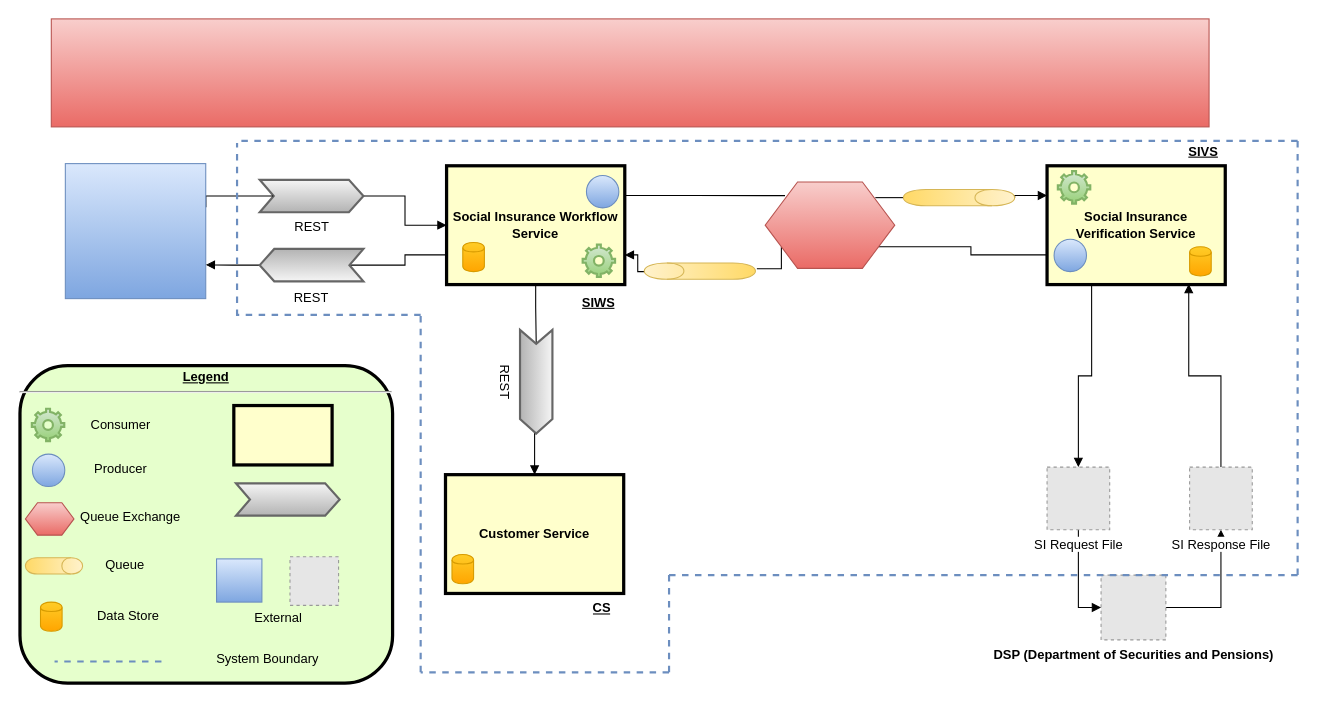
Image size: 1319x703. Some labels were removed from this diagram. Grey dashed boxes stand in for pictures. The shapes that lost their labels are listed below. From the top down, each one's centre as x and y in pixels, then its label:
point (629, 72): Batch Processing System for DSP (Department of Securities and Pensions)
point (135, 231): Payment Verification System (Existing)
point (829, 224): SI Exchange
point (282, 434): microservice
point (287, 499): REST Interface
